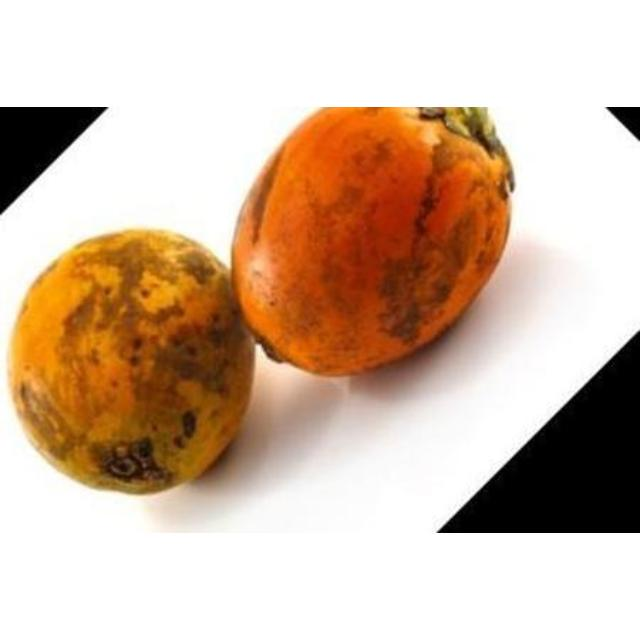good: (232, 107, 513, 379), (7, 229, 256, 498)
